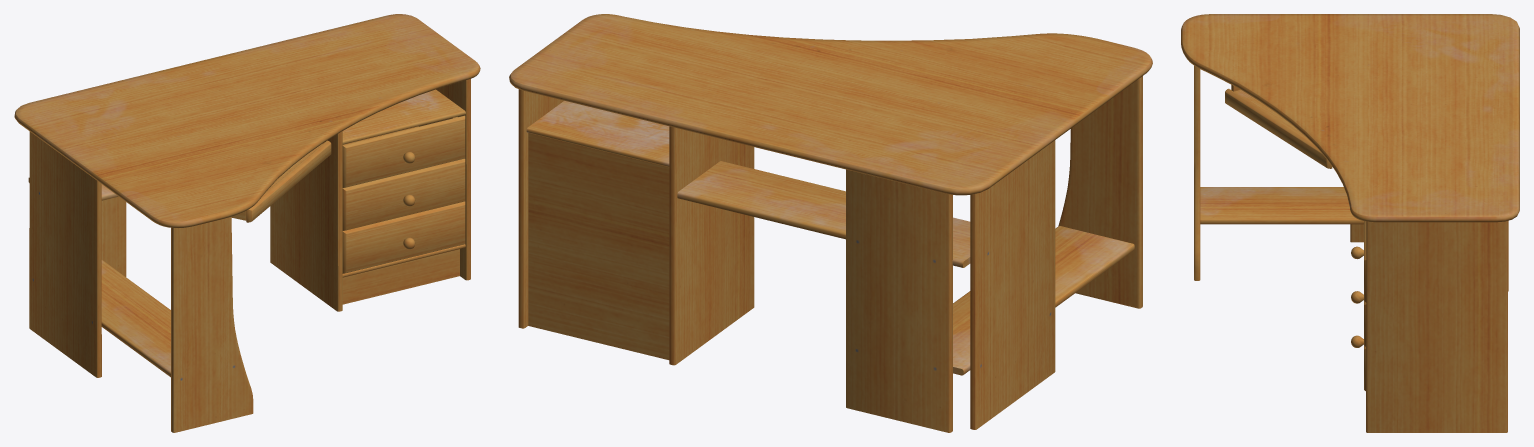
File: wooden_desk.glb
3 renders of one model, left to right at view 1: azimuth 30°, elevation 25°; view 2: azimuth 150°, elevation 25°; view 3: azimuth 270°, elevation 25°, orthographic. The views are drawn at different scales.
Visible parts, largest first — view 1: #TBL0001_Wooden_Desk_76x150x106, #TBL0001_Drawer_Top, #TBL0001_Drawer_Bottom, #TBL0001_Drawer_Middle, #TBL0001_Drawer_Keyboard; view 2: #TBL0001_Wooden_Desk_76x150x106; view 3: #TBL0001_Wooden_Desk_76x150x106, #TBL0001_Drawer_Keyboard, #TBL0001_Drawer_Top.
Part boxes in pixels (x1,y1,x2,y2): #TBL0001_Wooden_Desk_76x150x106: [14, 14, 480, 432]; #TBL0001_Drawer_Top: [342, 115, 465, 187]; #TBL0001_Drawer_Bottom: [342, 201, 465, 273]; #TBL0001_Drawer_Middle: [342, 158, 465, 230]; #TBL0001_Drawer_Keyboard: [246, 140, 331, 222]; #TBL0001_Wooden_Desk_76x150x106: [509, 14, 1152, 432]; #TBL0001_Wooden_Desk_76x150x106: [1181, 14, 1519, 432]; #TBL0001_Drawer_Keyboard: [1225, 88, 1332, 168]; #TBL0001_Drawer_Top: [1351, 221, 1366, 302].
Size of the model in its own units: 1.51 by 0.7609 by 1.06.
Materials: 1 (1 with a texture image).
